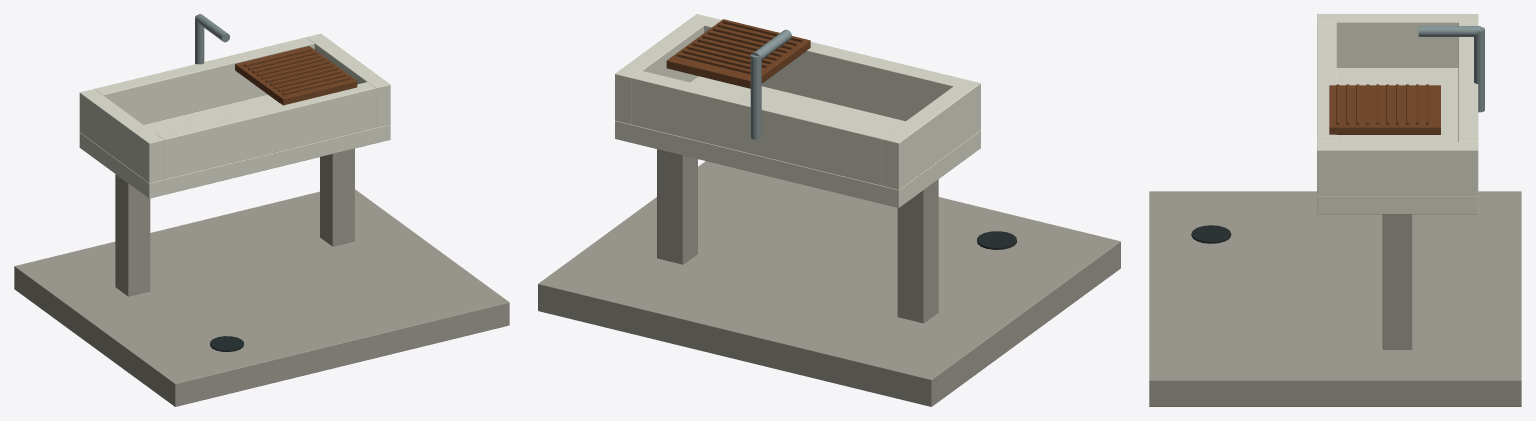
The model's file is source-edit.glb.
3 views of the same model, side by side, from view 1: azimuth 30°, elevation 25°; view 2: azimuth 150°, elevation 25°; view 3: azimuth 270°, elevation 25° (orthographic). The views are drawn at different scales.
Visible parts, largest first — view 1: Slab, Sink_Wall, Sink_Wall.001, Sink_Bottom, Sink_Side, Sink_Leg, Sink_Leg.001, Washboard, Sink_Side.001, Floor_Drain; view 2: Slab, Sink_Wall.001, Sink_Bottom, Sink_Wall, Sink_Side, Sink_Leg, Sink_Leg.001, Washboard, Sink_Side.001, Tap_Riser, Floor_Drain; view 3: Slab, Sink_Side.001, Sink_Bottom, Sink_Side, Washboard, Sink_Leg.001, Sink_Wall, Sink_Wall.001, Tap_Riser, Spout, Floor_Drain.
Boxes of the visible parts, <box> form: Slab: <box>14,189,509,406</box>; Sink_Wall: <box>156,82,375,179</box>; Sink_Wall.001: <box>95,37,314,124</box>; Sink_Bottom: <box>79,94,390,198</box>; Sink_Side: <box>79,89,163,182</box>; Sink_Leg: <box>115,174,150,296</box>; Sink_Leg.001: <box>320,148,354,246</box>; Washboard: <box>235,46,357,105</box>; Sink_Side.001: <box>306,33,390,127</box>; Floor_Drain: <box>210,336,243,351</box>; Slab: <box>538,161,1120,406</box>; Sink_Wall.001: <box>632,71,890,185</box>; Sink_Bottom: <box>615,76,980,207</box>; Sink_Wall: <box>704,18,962,121</box>; Sink_Side: <box>881,79,980,189</box>; Sink_Leg: <box>897,179,938,323</box>; Sink_Leg.001: <box>657,149,697,264</box>; Washboard: <box>666,19,810,88</box>; Sink_Side.001: <box>615,14,713,124</box>; Tap_Riser: <box>750,54,761,139</box>; Floor_Drain: <box>977,231,1016,249</box>; Slab: <box>1149,191,1521,406</box>; Sink_Side.001: <box>1317,142,1478,196</box>; Sink_Bottom: <box>1317,68,1478,214</box>; Sink_Side: <box>1317,14,1478,67</box>; Washboard: <box>1329,85,1440,134</box>; Sink_Leg.001: <box>1382,214,1412,349</box>; Sink_Wall: <box>1317,22,1336,141</box>; Sink_Wall.001: <box>1458,22,1478,141</box>; Tap_Riser: <box>1474,27,1484,112</box>; Spout: <box>1418,26,1480,36</box>; Floor_Drain: <box>1191,225,1231,243</box>.
Bounding box in the file's own units: 1.8 × 1.27 × 1.5.
